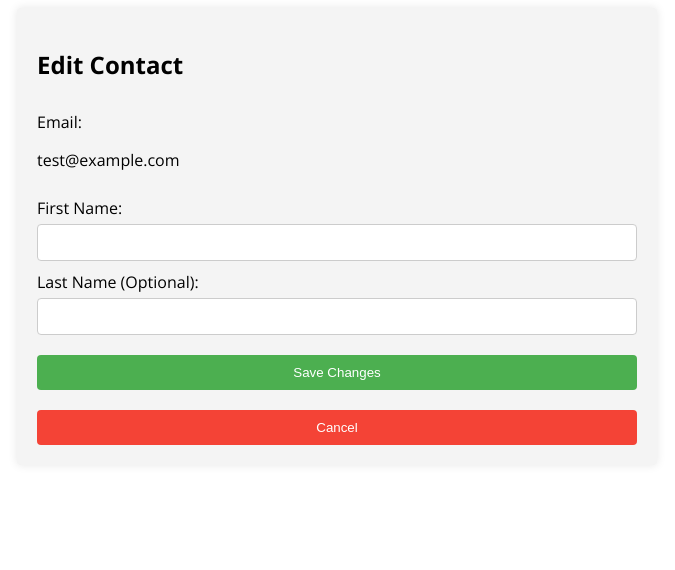
Scenario: EditContactPage Component › Gives the correct error message when last name is too short
The image size is (675, 570).
Type "s" into the field labelled "Last Name (Optional):" at (337,316), box 37,298 -> 637,335
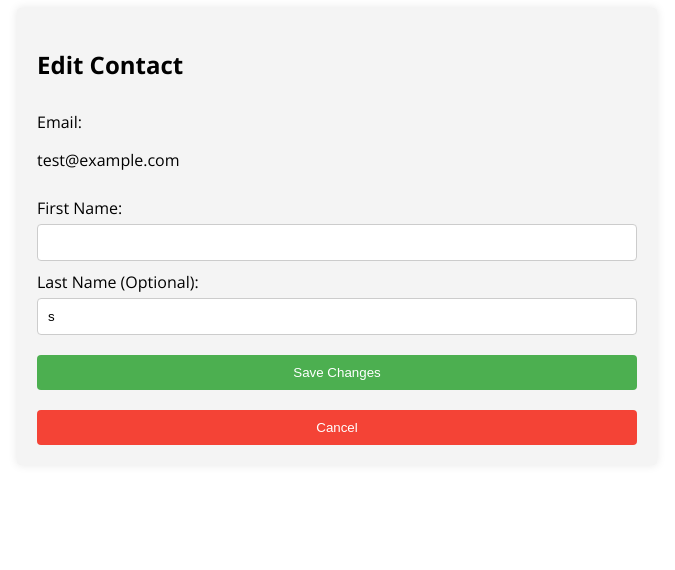
Click the button "Save Changes" at (337,372), box 37,355 -> 637,390
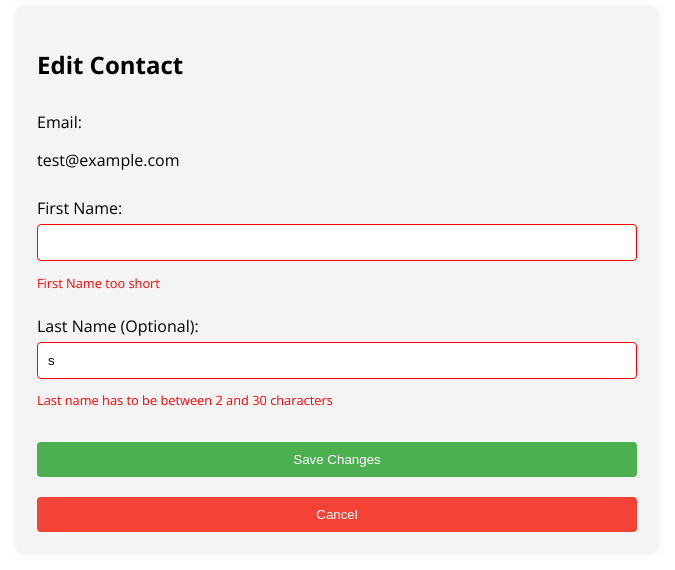
Result: the text "Last name has to be between 2 and 30 characters" is shown at 37,391 -> 333,409
